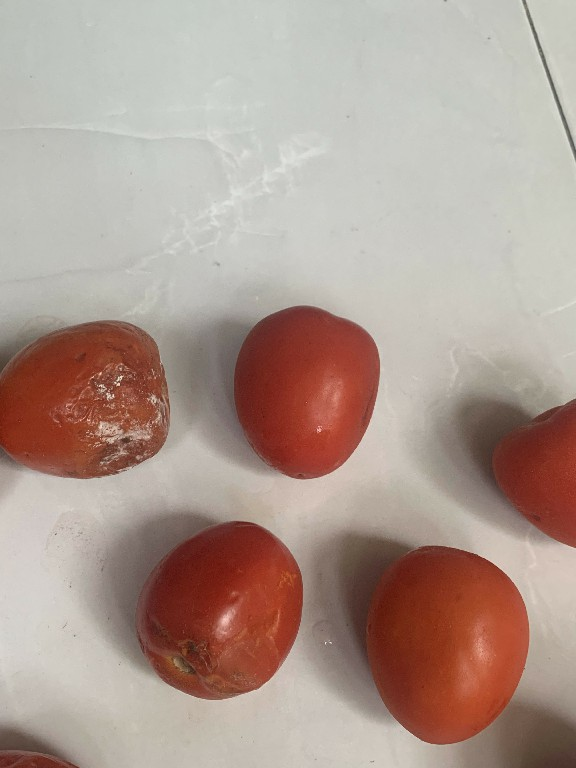NG: (0, 305, 184, 488), (136, 517, 305, 704)
OK: (346, 535, 529, 750), (224, 301, 396, 484)
